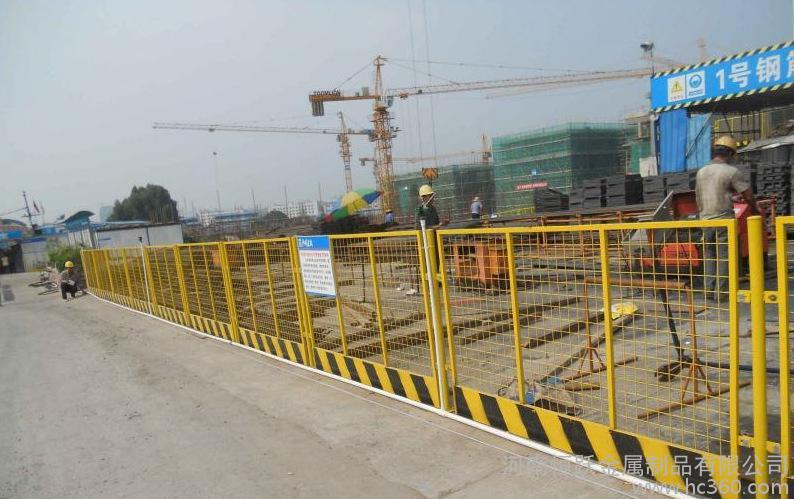sign: (446, 211, 793, 472), (223, 225, 440, 397), (94, 241, 222, 338)
